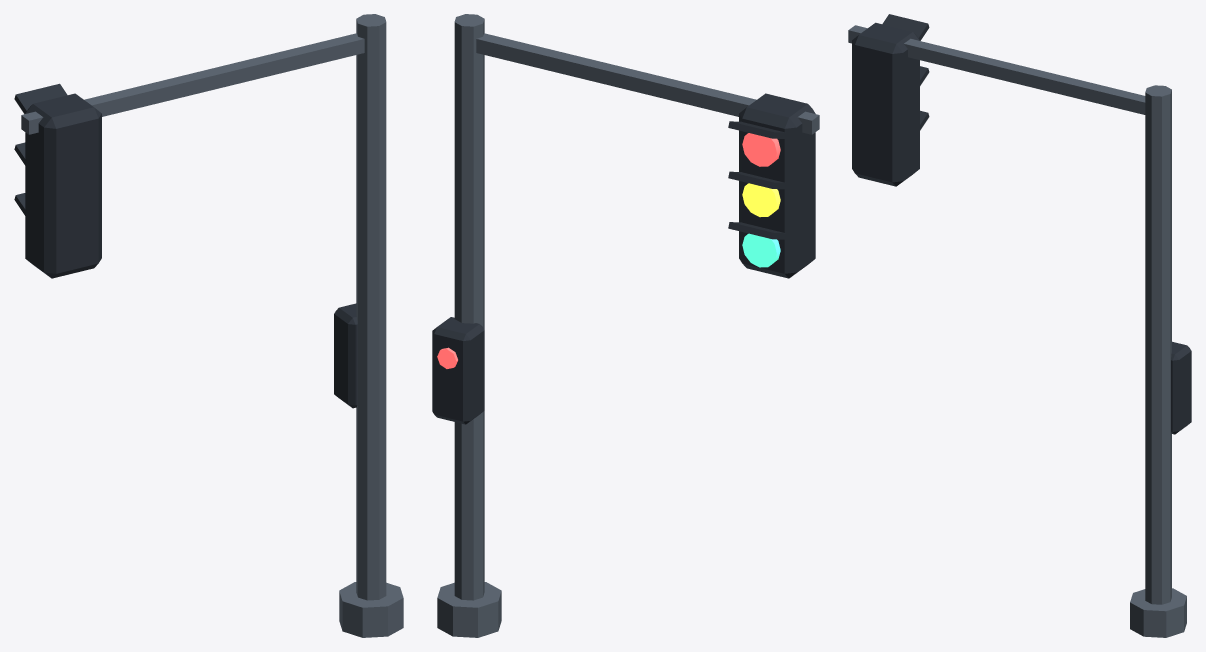
The model's file is traffic_light.glb.
The picture shows the model from 3 angles, left to right: view 1: azimuth 30°, elevation 25°; view 2: azimuth 150°, elevation 25°; view 3: azimuth 330°, elevation 25°; orthographic projection. The views are drawn at different scales.
Visible parts, largest first — view 1: traffic_light; view 2: traffic_light; view 3: traffic_light.
Part boxes in pixels (<box>): traffic_light: <box>14,14,403,637</box>; traffic_light: <box>432,14,819,637</box>; traffic_light: <box>848,14,1191,637</box>.
Size of the model in its own units: 3.9 by 6 by 0.7868.
